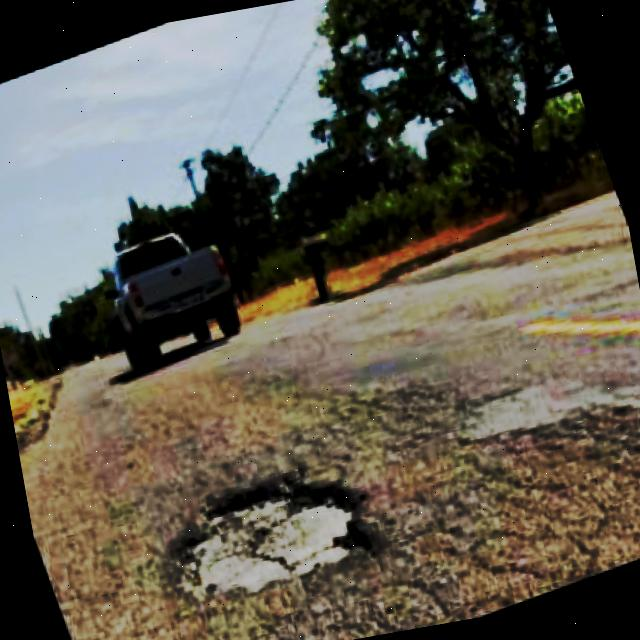pothole: (164, 456, 382, 601)
